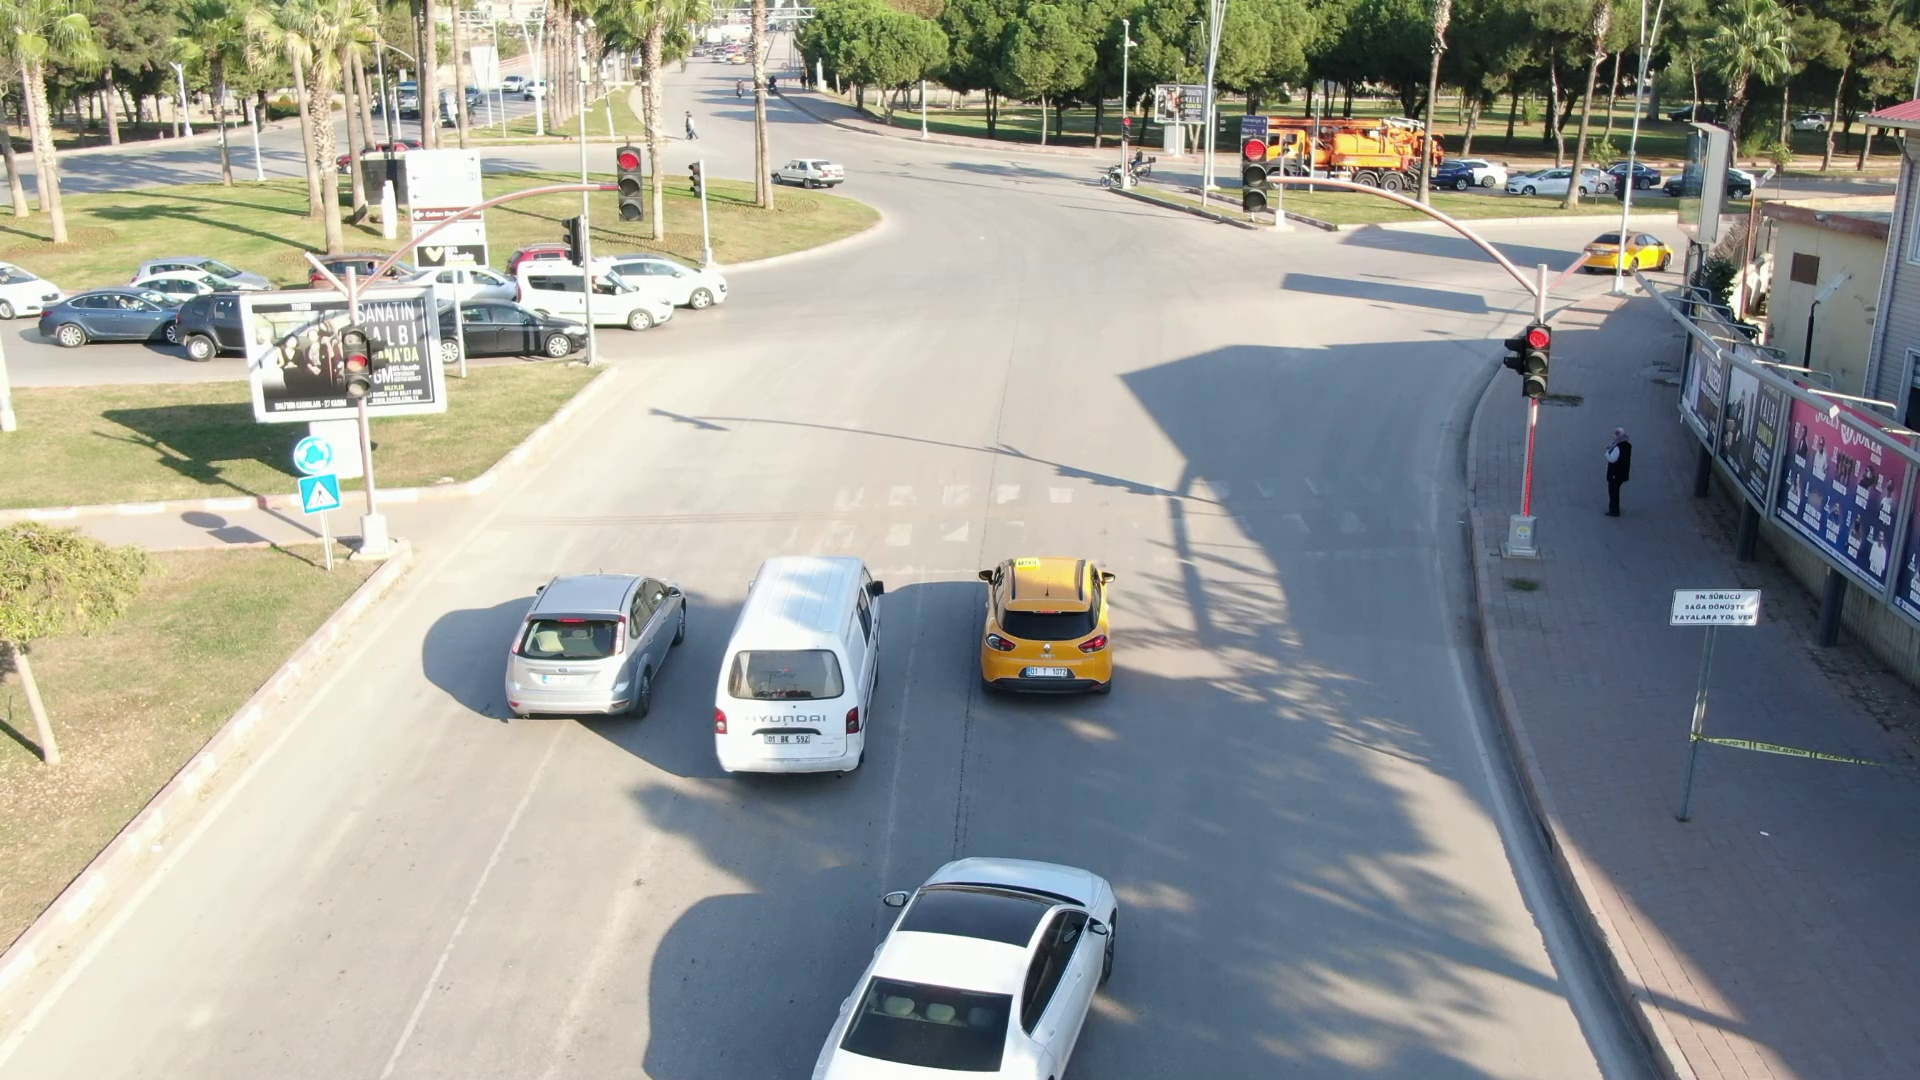car: (802, 857, 1135, 1080), (712, 547, 915, 782), (494, 553, 686, 725), (968, 543, 1127, 694), (506, 255, 674, 327), (433, 296, 594, 368), (596, 253, 731, 308), (1576, 227, 1674, 274), (766, 157, 847, 190)
person: (1600, 419, 1639, 523)
